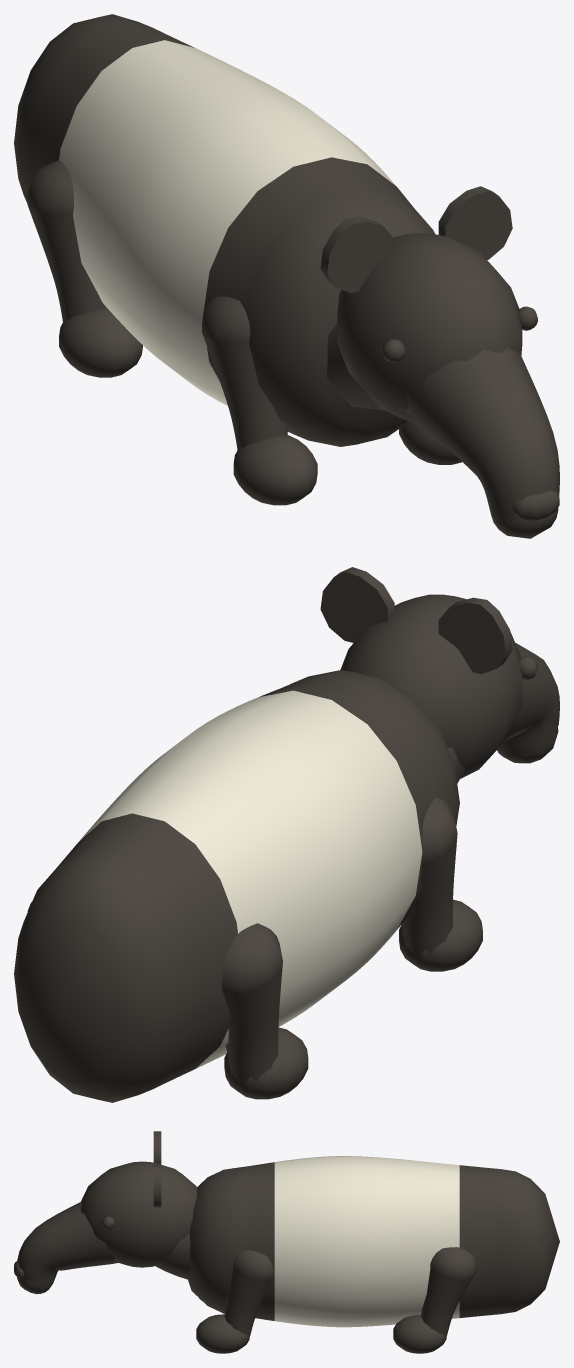
The model's file is rainforest-and-jungle-fauna-malayan-tapir-2b5183c5__21664.glb.
3 renders of one model, top to bottom at view 1: azimuth 30°, elevation 25°; view 2: azimuth 150°, elevation 25°; view 3: azimuth 270°, elevation 25°, orthographic. The views are drawn at different scales.
Visible parts, largest first — view 1: malayan-tapir; view 2: malayan-tapir; view 3: malayan-tapir.
Boxes of the visible parts, x1,y1,x2,y2 form: malayan-tapir: [14, 14, 559, 538]; malayan-tapir: [14, 567, 559, 1102]; malayan-tapir: [14, 1131, 559, 1353].
Bounding box in the file's own units: 0.663 × 0.832 × 2.3.
